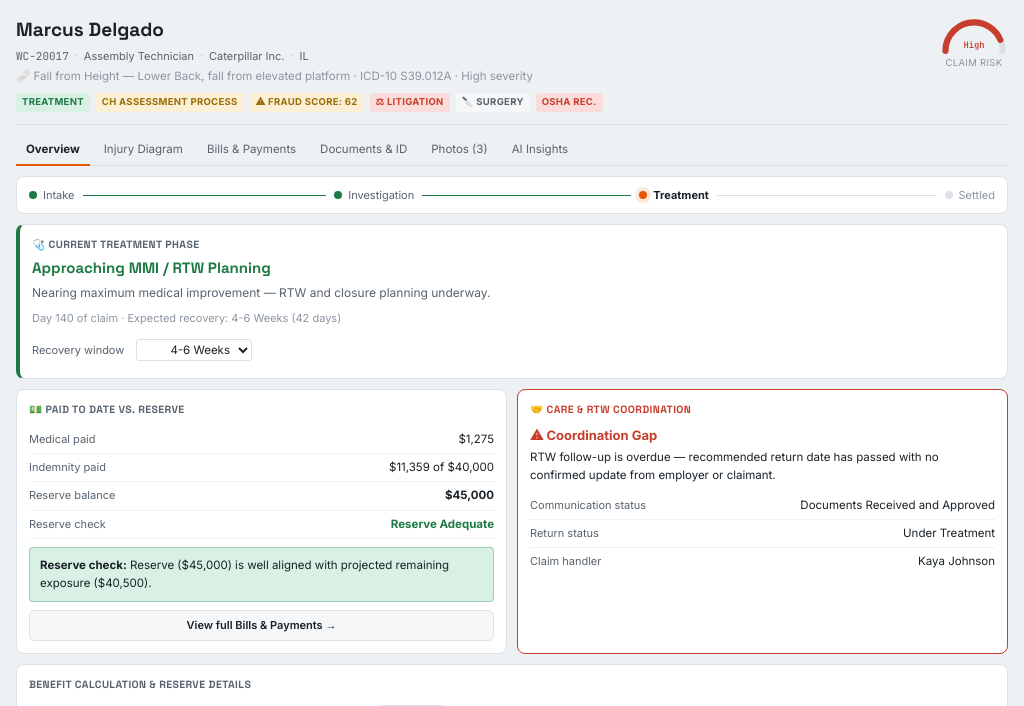
a different path renders a different banner and a different form set
Click the tab with test id "tab-documents" at x=364, y=150, box left=310, top=134, right=417, bottom=166
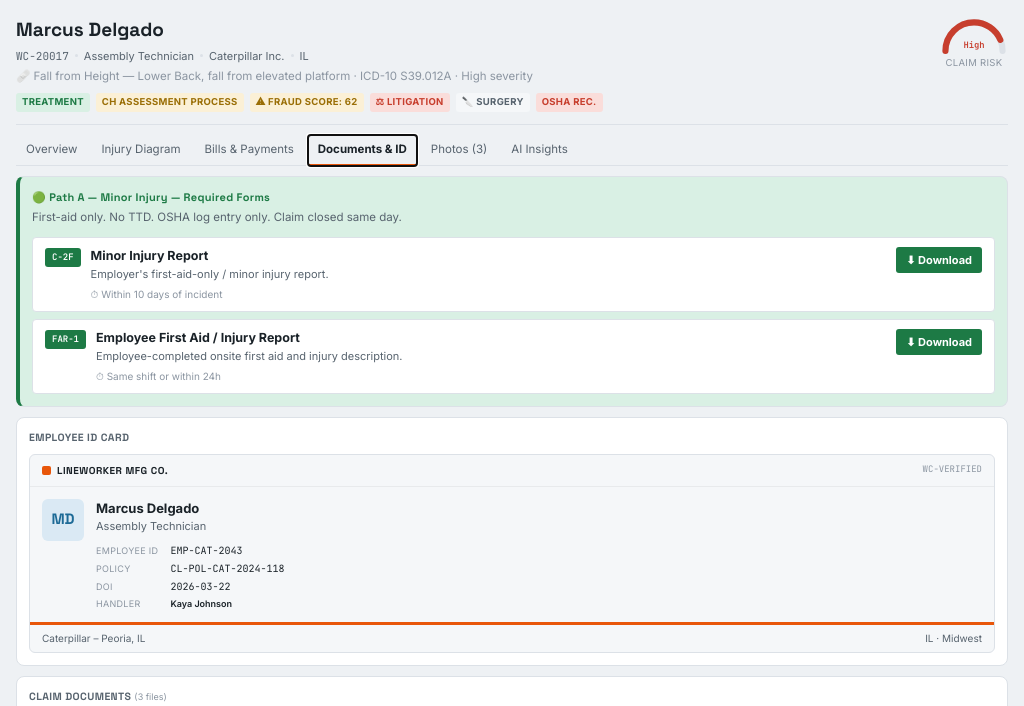
Expected: the heading with test id "required-forms-banner" shows "Path A — Minor Injury", left=49, top=190, right=168, bottom=204
